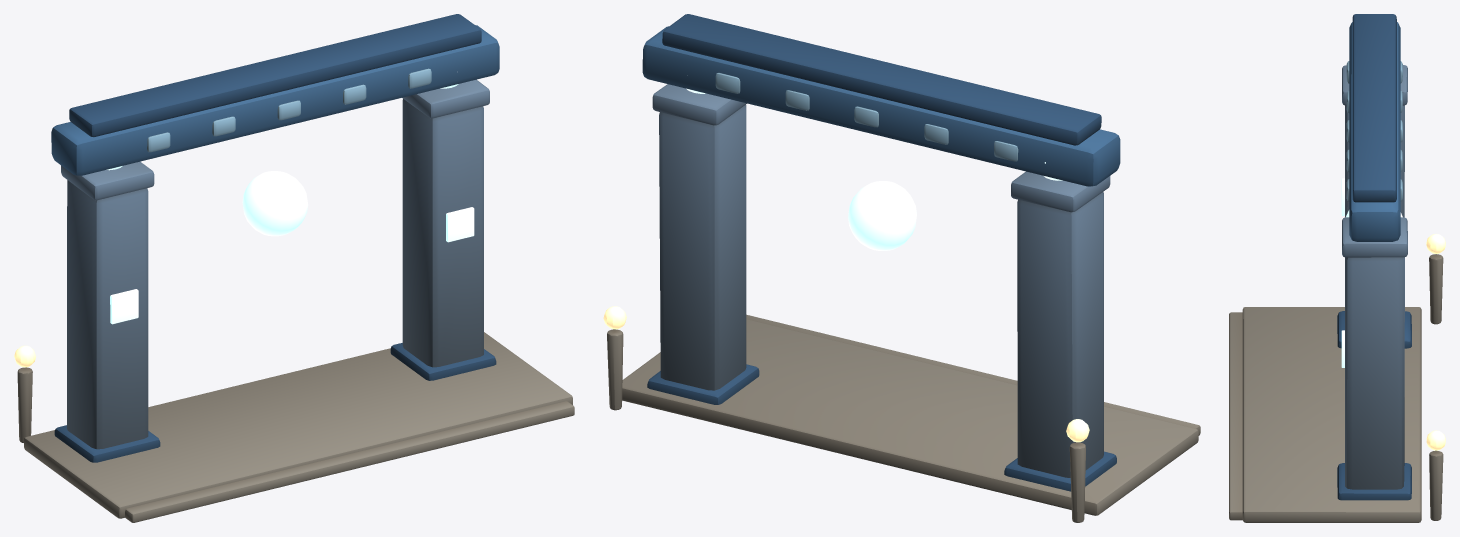
The picture shows the model from 3 angles, left to right: view 1: azimuth 30°, elevation 25°; view 2: azimuth 150°, elevation 25°; view 3: azimuth 270°, elevation 25°; orthographic projection. The views are drawn at different scales.
Visible parts, largest first — view 1: gate_c13207f7; view 2: gate_c13207f7; view 3: gate_c13207f7.
Boxes of the visible parts, x1,y1,x2,y2 form: gate_c13207f7: [14, 14, 574, 522]; gate_c13207f7: [603, 14, 1200, 522]; gate_c13207f7: [1229, 14, 1445, 522].
Size of the model in its own units: 5.72 by 4.15 by 2.55.
